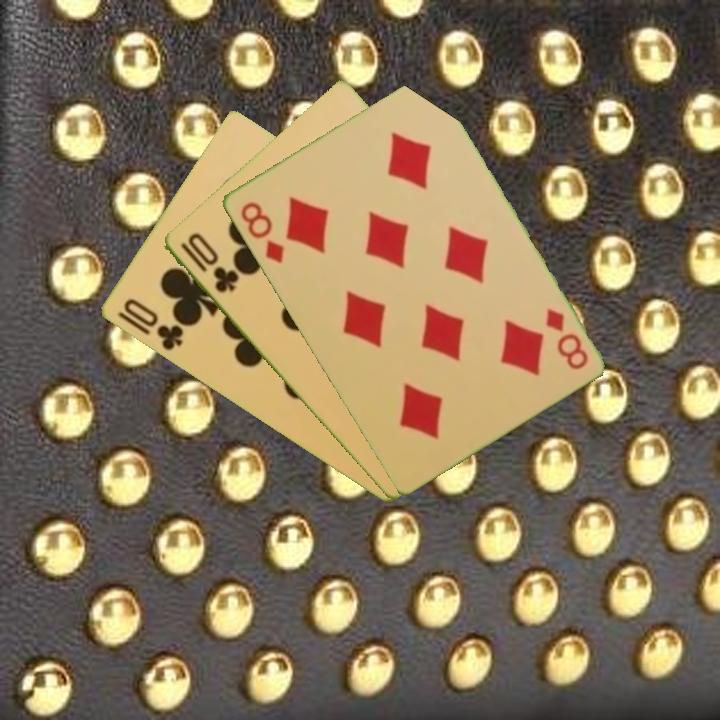10c: (176, 229, 241, 296), (119, 295, 186, 354)
8d: (236, 198, 287, 266), (541, 304, 591, 373)
